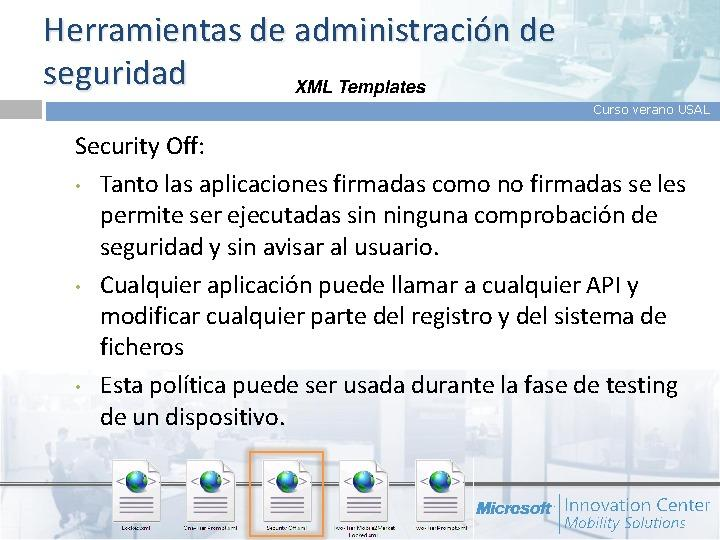paragraph: (56, 166, 707, 445)
subtitle: (66, 131, 207, 165)
title: (35, 5, 580, 100)
